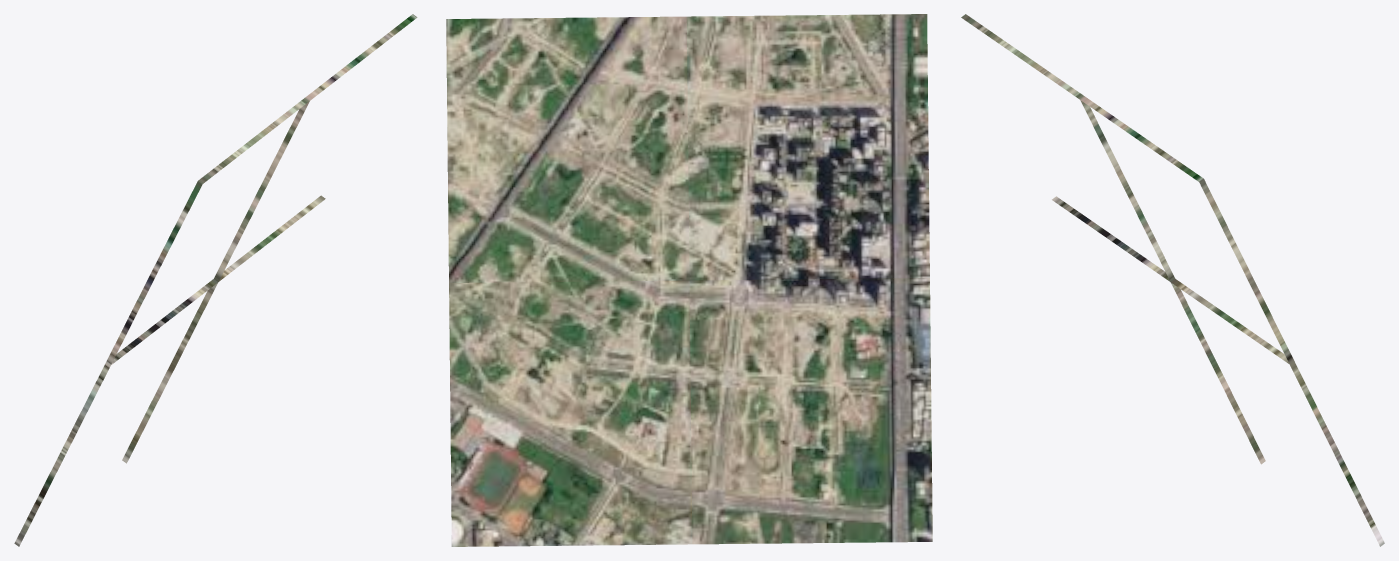
The picture shows the model from 3 angles, left to right: view 1: azimuth 30°, elevation 25°; view 2: azimuth 150°, elevation 25°; view 3: azimuth 270°, elevation 25°; orthographic projection. The views are drawn at different scales.
Bounding box in the file's own units: 1223 × 1109 × 1030.
1 material, 1 textured.
